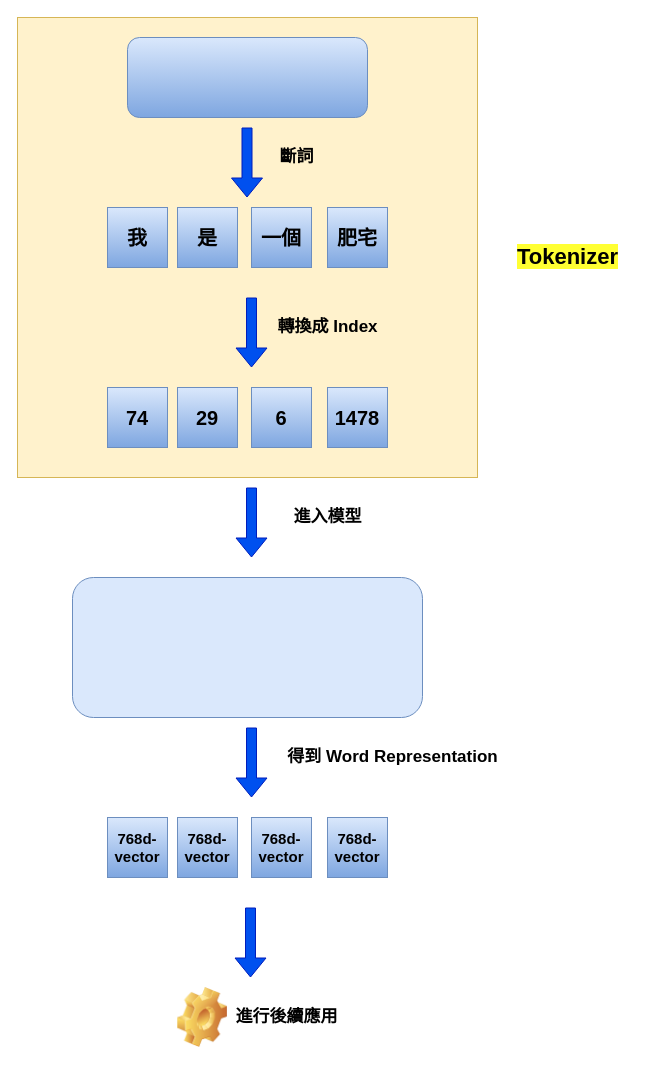
This 645x1065 diagram has some shape labels left out. Each missing label, with the centre of its shape:
"Pre-Trained Language Model" goes at point 247,647.
"我是一個肥宅" goes at point 247,77.
